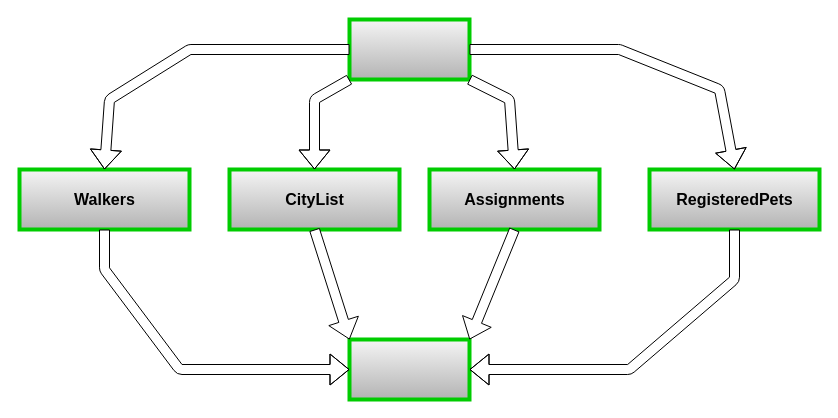
The diagram is 838 pixels wide and 418 high, and some of its shapes have lost their labels. The box of each missing label's shape, as (x1, y1, x2, y2) in pixels:
database: (347, 337, 471, 401)
main: (347, 17, 471, 81)
